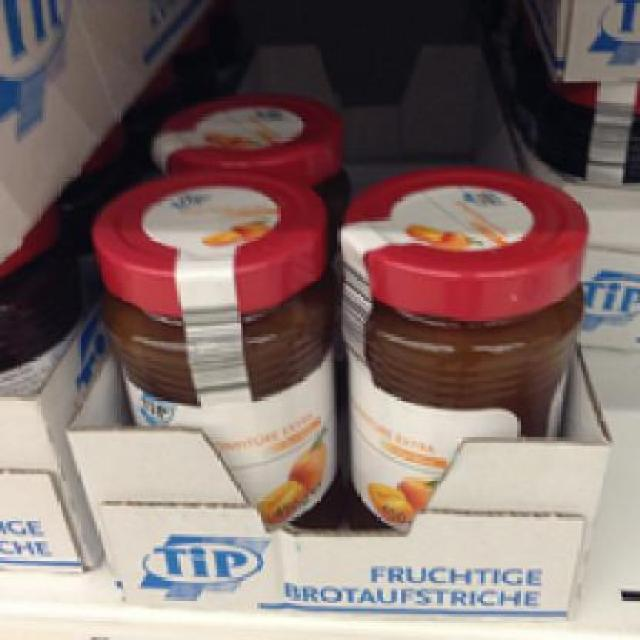Jam: (332, 159, 588, 532), (89, 167, 340, 524)
